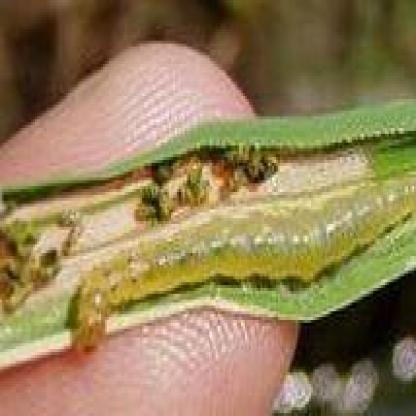leaf-folder: (65, 177, 416, 356)
